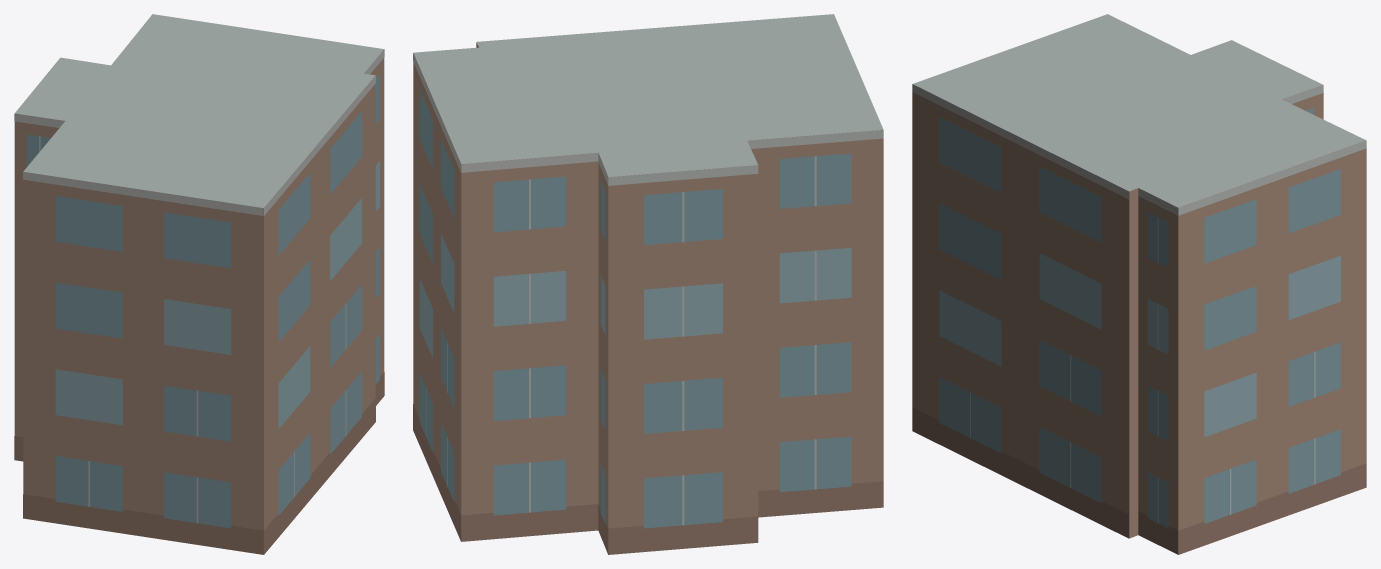
The model's file is survey-upis-32538632.glb.
The picture shows the model from 3 angles, left to right: view 1: azimuth 30°, elevation 25°; view 2: azimuth 150°, elevation 25°; view 3: azimuth 270°, elevation 25°; orthographic projection. The views are drawn at different scales.
Visible parts, largest first — view 1: survey-upis-32538632.tmp; view 2: survey-upis-32538632.tmp; view 3: survey-upis-32538632.tmp.
Part boxes in pixels (x1,y1,x2,y2): survey-upis-32538632.tmp: [14, 14, 384, 554]; survey-upis-32538632.tmp: [413, 14, 883, 554]; survey-upis-32538632.tmp: [912, 14, 1366, 554].
Size of the model in its own units: 12.7 by 10.6 by 12.58.
